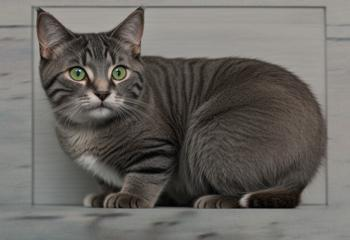cat: (31, 6, 327, 208)
